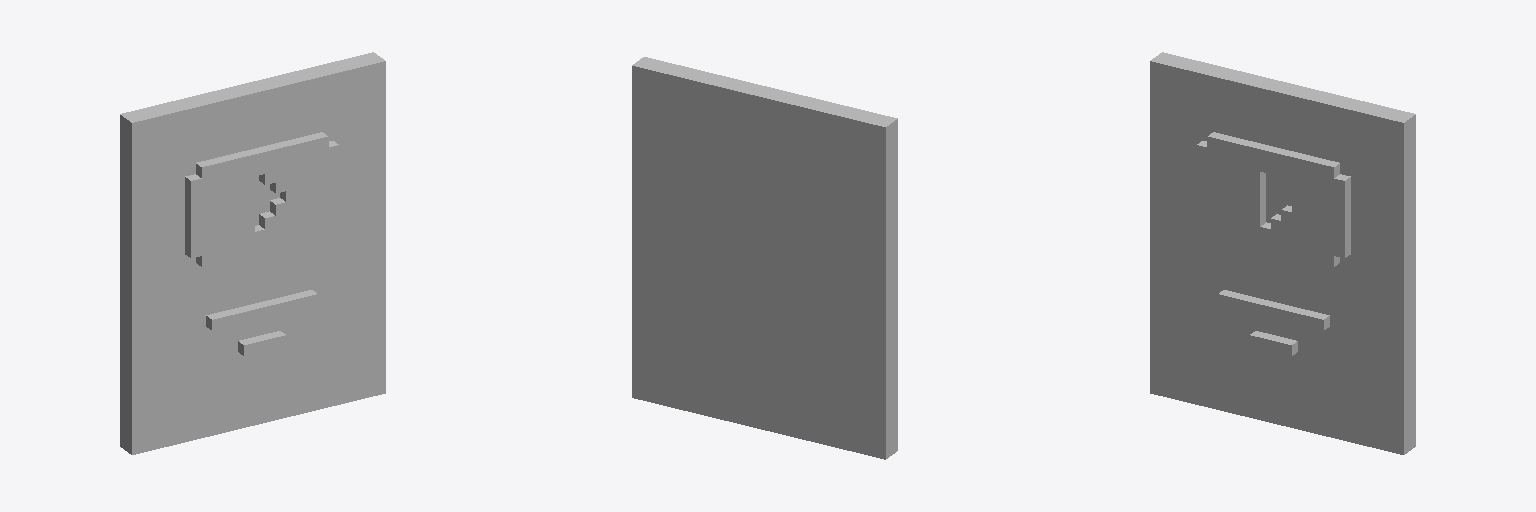
Rendered from YTaward.obj.
3 views of the same model, side by side, from view 1: azimuth 30°, elevation 25°; view 2: azimuth 150°, elevation 25°; view 3: azimuth 330°, elevation 25° (orthographic).
Visible parts, largest first — view 1: Untitled.001, Untitled, Untitled.002; view 2: Untitled; view 3: Untitled.001, Untitled, Untitled.002.
Part boxes in pixels (x1,y1,x2,y2): Untitled.001: (153,88,364,427); Untitled: (120,52,385,454); Untitled.002: (185,132,338,266); Untitled: (632,57,897,459); Untitled.001: (1171,88,1382,427); Untitled: (1150,52,1415,454); Untitled.002: (1197,132,1350,266).
Bounding box in the file's own units: 2.4 × 3 × 0.3.